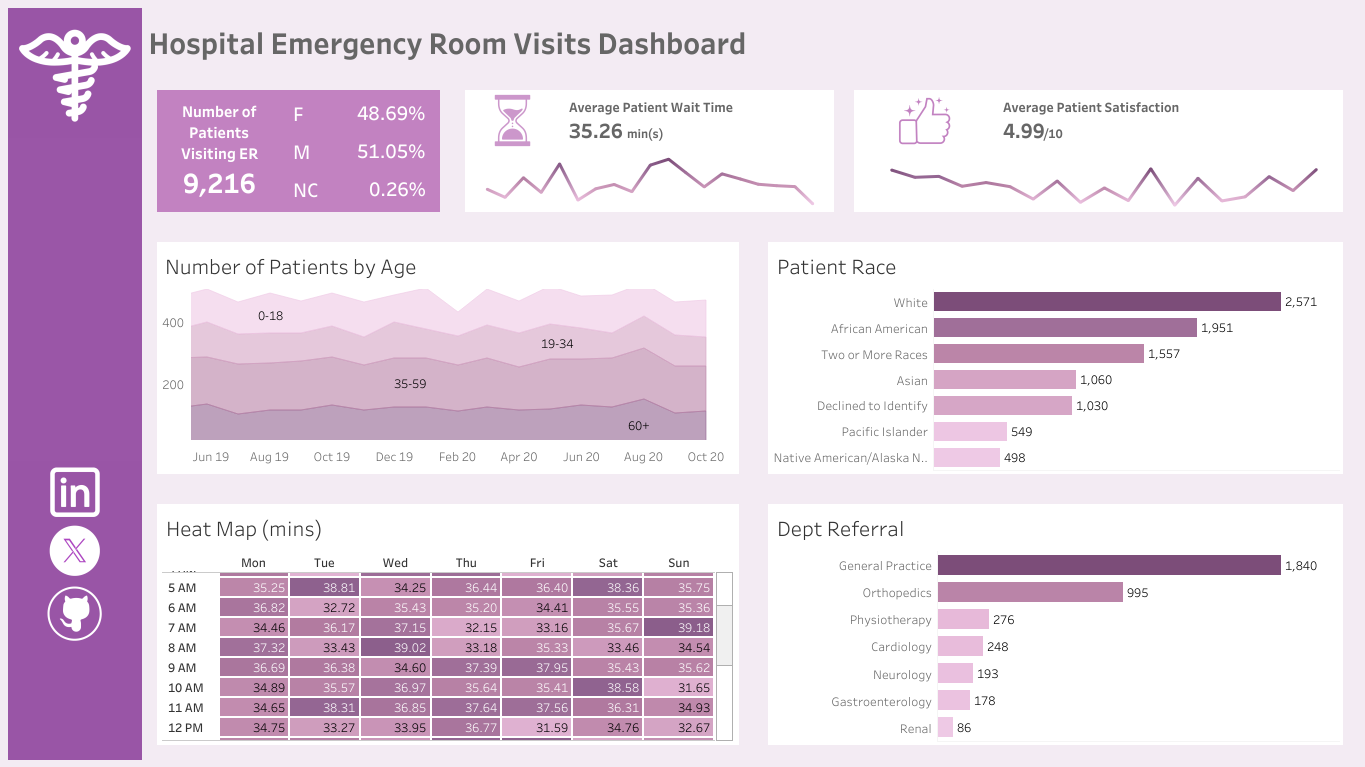

Layout of this report page (visuals, bound fields, positions):
{"tool":"tableau","page":{"name":"Dashboard 1","canvas":[1366,768],"ordinal":0},"visuals":[{"type":"image","param":"C:/Users/DELL LATITUDE E7270/Downloads/hospital logo.png","box":[8,8,134,130]},{"type":"text","box":[142,8,1216,67]},{"type":"worksheet","title":"# Pats","mark":"Automatic","box":[157,90,126,122]},{"type":"worksheet","title":"Gender","mark":"Automatic","rows":["patient_gender"],"box":[283,90,151,122]},{"type":"image","param":"C:/Users/DELL LATITUDE E7270/Downloads/hourgglass logo.png","box":[465,90,96,61]},{"type":"worksheet","title":"Average Wait Time","mark":"Automatic","box":[561,90,273,61]},{"type":"image","param":"C:/Users/DELL LATITUDE E7270/Downloads/thumbs up logo.png","box":[854,90,141,61]},{"type":"worksheet","title":"Average Satisfaction","mark":"Automatic","box":[995,90,348,61]},{"type":"worksheet","title":"Patient Wait time","mark":"Automatic","rows":["patient_waittime"],"cols":["date"],"box":[465,151,369,61]},{"type":"worksheet","title":"Patient Satisfaction","mark":"Automatic","rows":["patient_sat_score"],"cols":["date"],"box":[864,161,479,51]},{"type":"worksheet","title":"Age Grouping","mark":"Area","rows":["patient_id"],"cols":["date"],"box":[157,242,581.5,232]},{"type":"worksheet","title":"Patient Race","mark":"Automatic","rows":["patient_race"],"cols":["patient_id"],"box":[768.5,242,574.5,232]},{"type":"image","param":"C:/Users/DELL LATITUDE E7270/Downloads/LinkedIn Logo.png","box":[8,461,134,60]},{"type":"worksheet","title":"Heat Map","mark":"Square","rows":["date"],"cols":["date"],"box":[157,504,581.5,241]},{"type":"worksheet","title":"Dept Referral","mark":"Automatic","rows":["department_referral"],"cols":["patient_id"],"box":[768.5,504,574.5,241]},{"type":"image","param":"C:/Users/DELL LATITUDE E7270/Downloads/Untitled design (2).png","box":[8,521,134,60]},{"type":"image","param":"C:/Users/DELL LATITUDE E7270/Downloads/Untitled design (3).png","box":[8,581,134,65]}]}

Visuals, with their boxes in screenshot pixels (x1, y1, x2, y2), scaled from the page's 1366x768 canvas onto the 1365x767 screenshot:
image: {"x1": 8, "y1": 8, "x2": 142, "y2": 138}
text: {"x1": 142, "y1": 8, "x2": 1357, "y2": 75}
"# Pats" worksheet: {"x1": 157, "y1": 90, "x2": 283, "y2": 212}
"Gender" worksheet: {"x1": 283, "y1": 90, "x2": 434, "y2": 212}
image: {"x1": 465, "y1": 90, "x2": 561, "y2": 151}
"Average Wait Time" worksheet: {"x1": 561, "y1": 90, "x2": 833, "y2": 151}
image: {"x1": 853, "y1": 90, "x2": 994, "y2": 151}
"Average Satisfaction" worksheet: {"x1": 994, "y1": 90, "x2": 1342, "y2": 151}
"Patient Wait time" worksheet: {"x1": 465, "y1": 151, "x2": 833, "y2": 212}
"Patient Satisfaction" worksheet: {"x1": 863, "y1": 161, "x2": 1342, "y2": 212}
"Age Grouping" worksheet (Area marks): {"x1": 157, "y1": 242, "x2": 738, "y2": 473}
"Patient Race" worksheet: {"x1": 768, "y1": 242, "x2": 1342, "y2": 473}
image: {"x1": 8, "y1": 460, "x2": 142, "y2": 520}
"Heat Map" worksheet (Square marks): {"x1": 157, "y1": 503, "x2": 738, "y2": 744}
"Dept Referral" worksheet: {"x1": 768, "y1": 503, "x2": 1342, "y2": 744}
image: {"x1": 8, "y1": 520, "x2": 142, "y2": 580}
image: {"x1": 8, "y1": 580, "x2": 142, "y2": 645}
